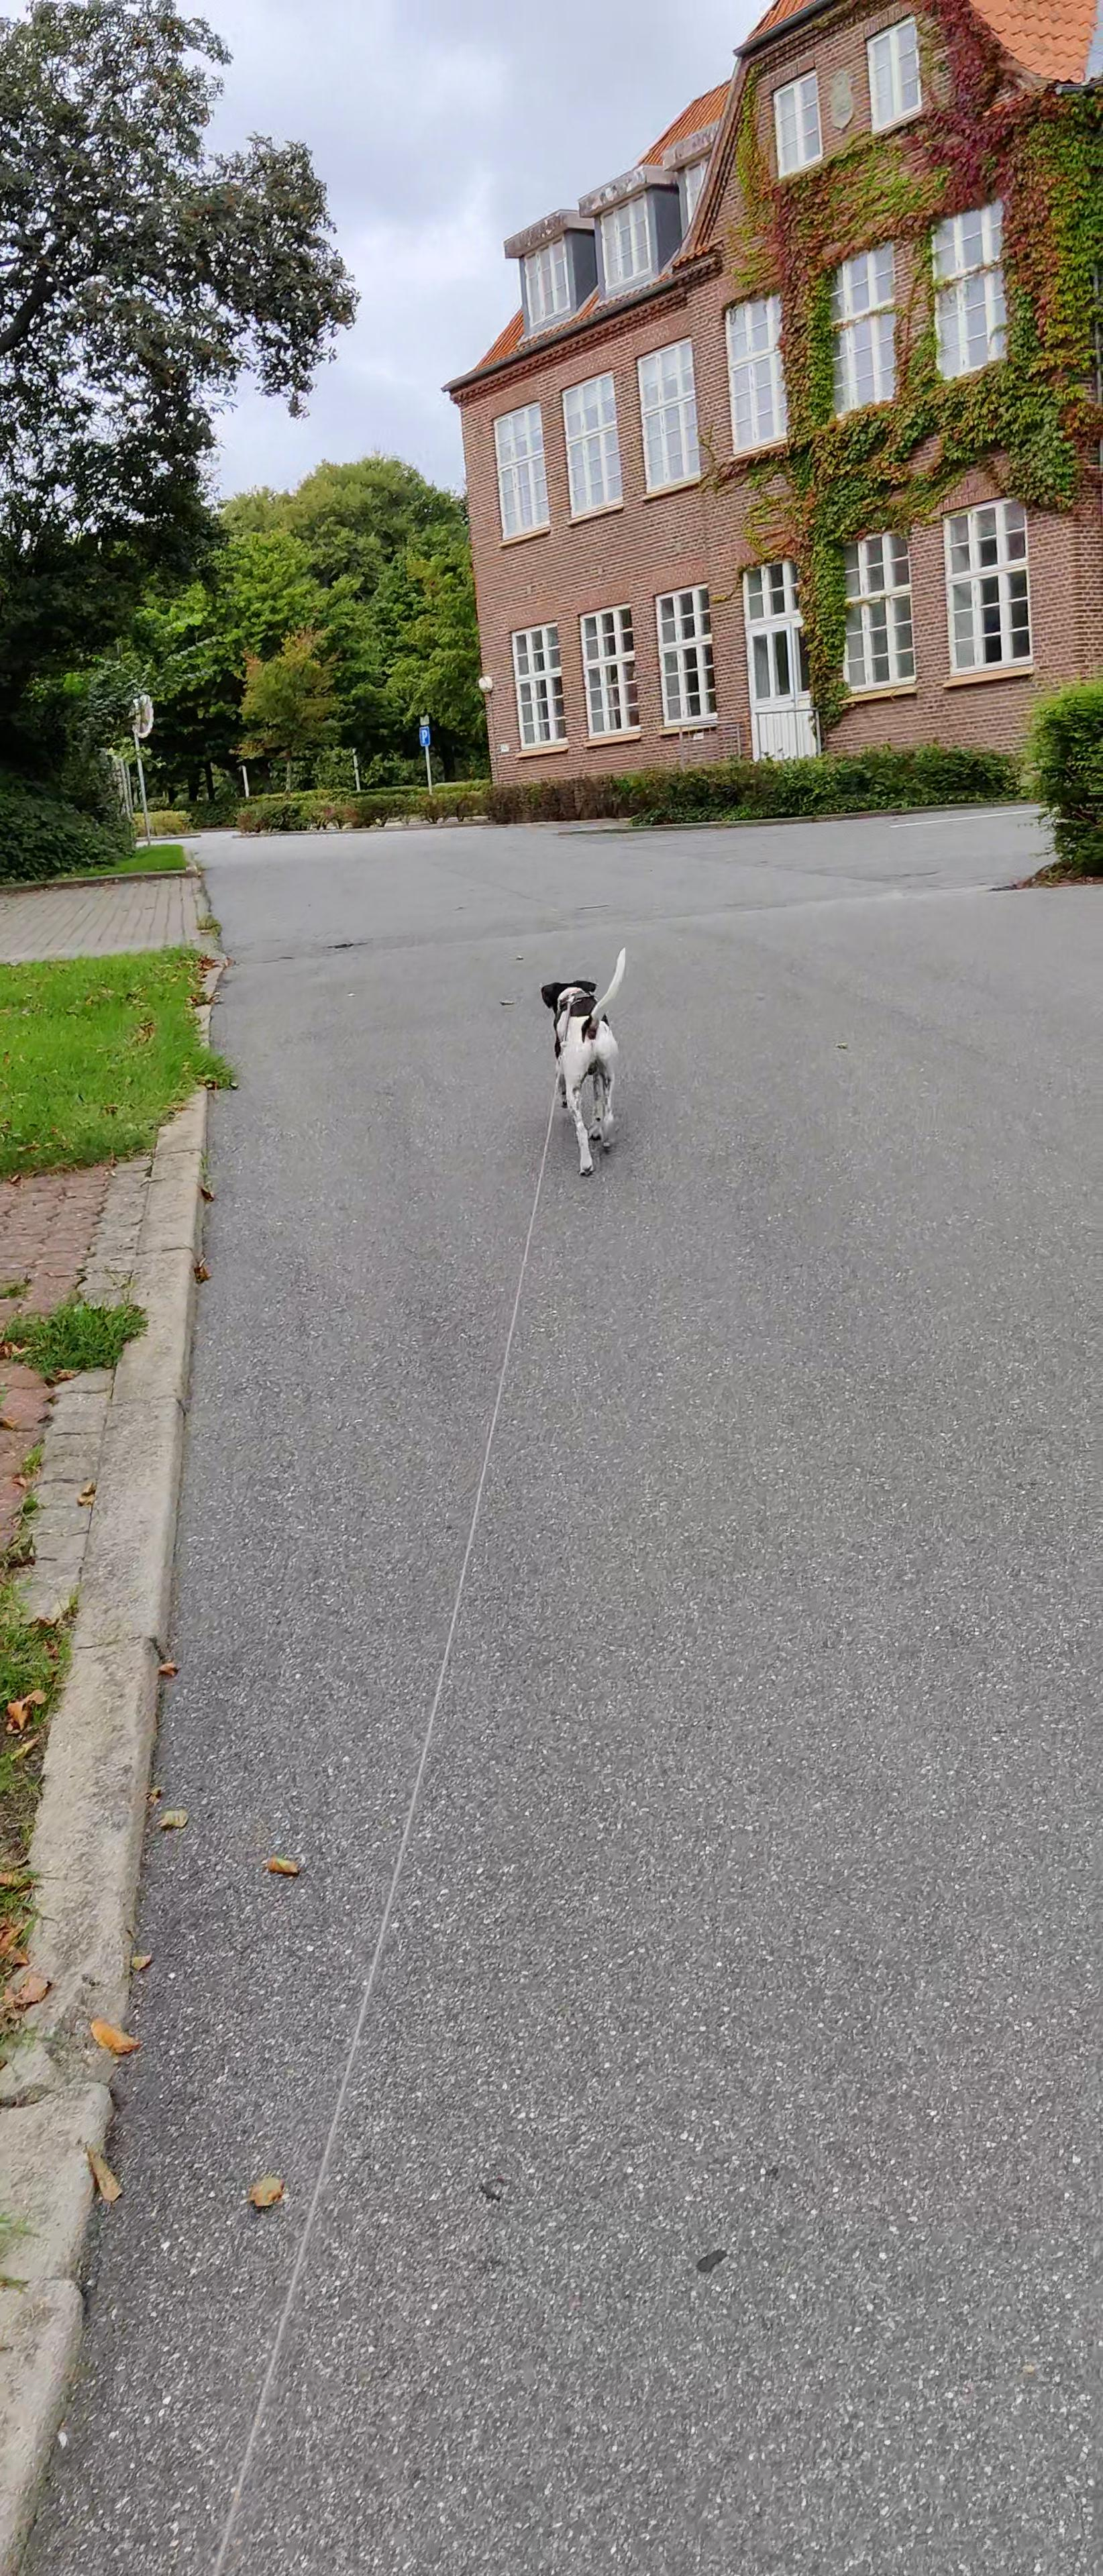Dog: (524, 943, 641, 1181)
